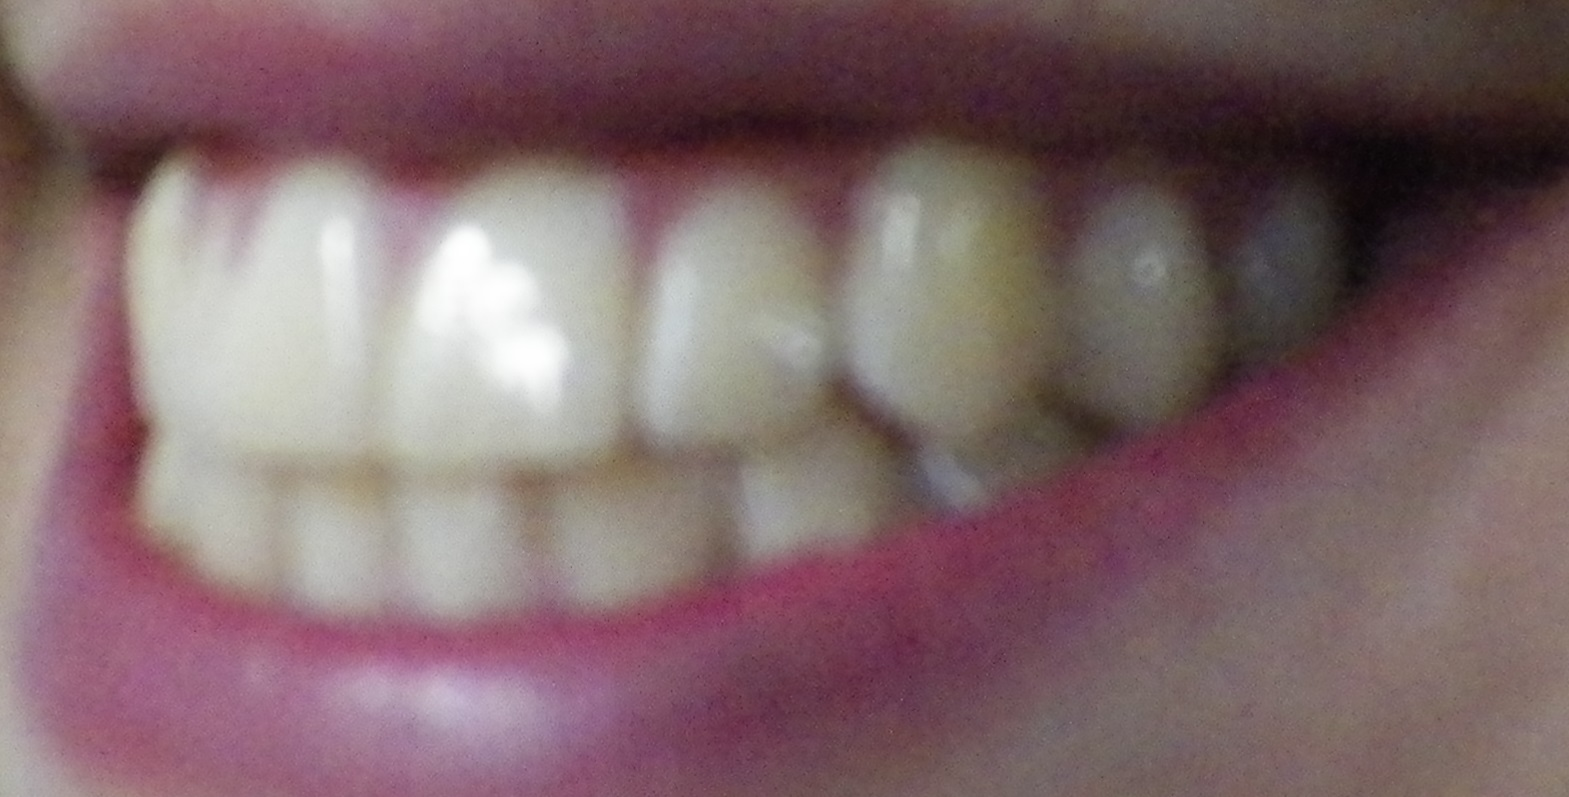boca: (108, 151, 1337, 620)
